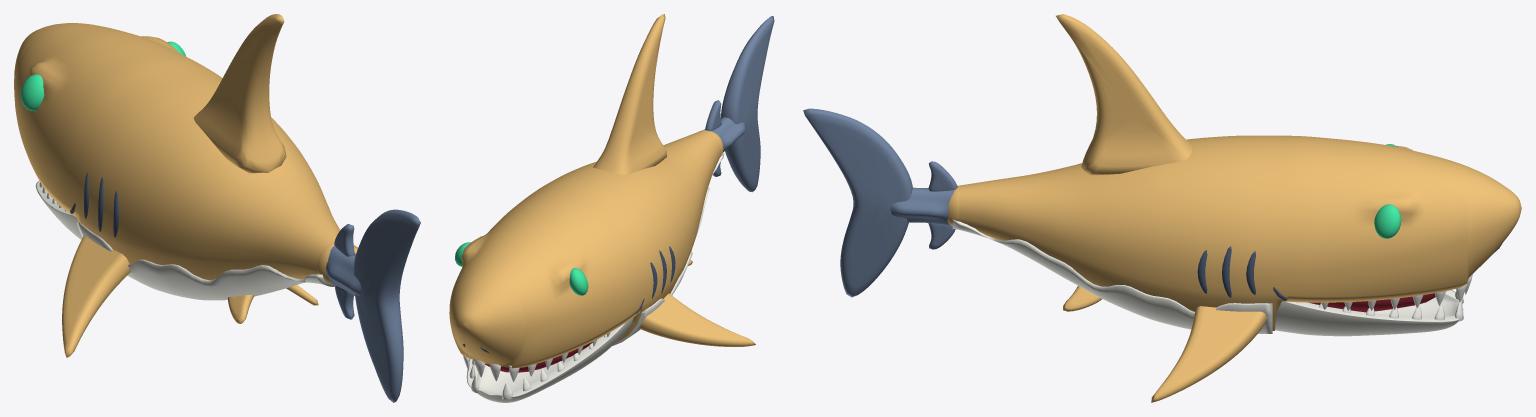
The model's file is SharkBaitShark.obj.
3 views of the same model, side by side, from view 1: azimuth 30°, elevation 25°; view 2: azimuth 150°, elevation 25°; view 3: azimuth 270°, elevation 25° (orthographic). The views are drawn at different scales.
Parts seen in each view (by area): view 1: Body, Tail, Belly, Eyes, Gills, Jaw; view 2: Body, Tail, Jaw, Teeth, Belly, JawTeeth, Eyes, Gills, Mouth; view 3: Body, Tail, Jaw, Belly, Gills, Mouth, Eyes.
Boxes of the visible parts, x1,y1,x2,y2 form: Body: (14,14,357,357); Tail: (326,209,420,402); Belly: (76,222,335,300); Eyes: (21,41,185,111); Gills: (70,172,119,237); Jaw: (35,180,82,239); Body: (449,14,755,368); Tail: (704,16,774,192); Jaw: (466,317,633,402); Teeth: (463,332,610,382); Belly: (612,153,724,345); JawTeeth: (469,334,606,399); Eyes: (455,242,588,295); Gills: (463,246,675,353); Mouth: (485,342,592,372); Body: (947,14,1521,402); Tail: (803,108,957,297); Jaw: (1275,290,1463,336); Belly: (952,219,1272,333); Gills: (1197,244,1501,300); Mouth: (1309,293,1435,312); Eyes: (1374,144,1401,238).
Size of the model in its own units: 6.13 by 6 by 12.4.
